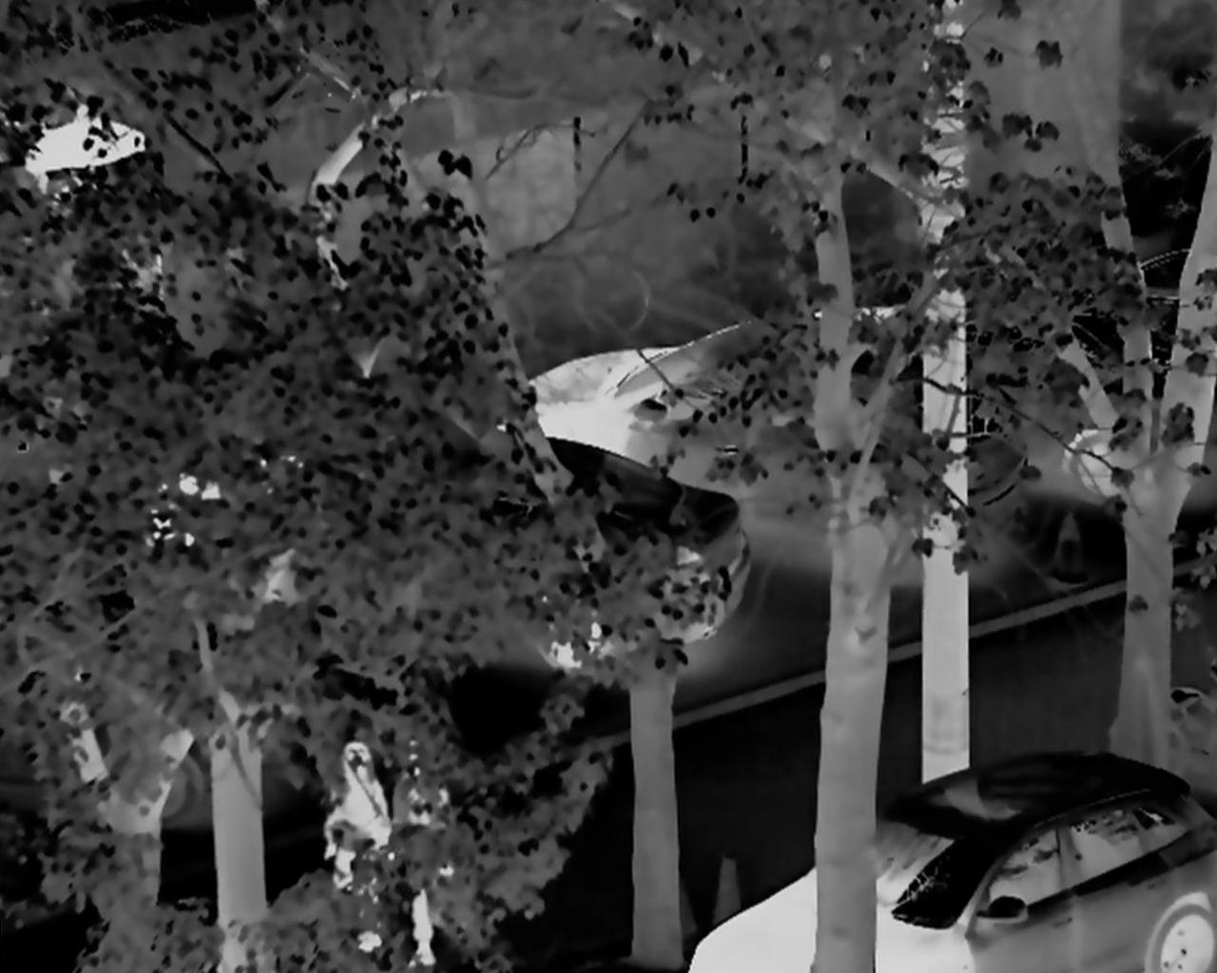person: (387, 755, 460, 971), (319, 742, 389, 937)
